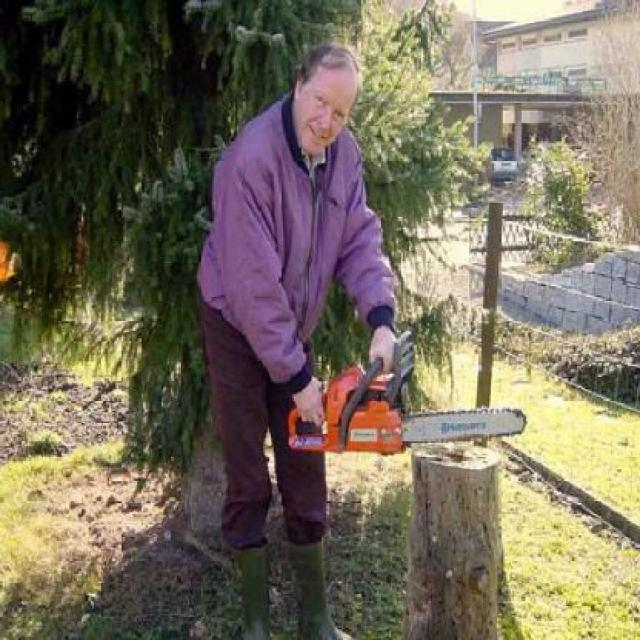Chainsaw: (282, 327, 540, 465)
